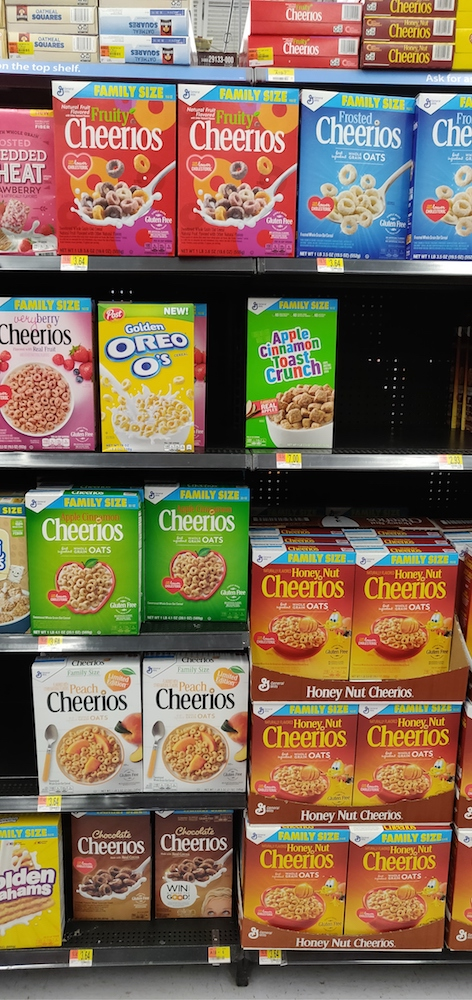Oreo Golden-568301011: (98, 305, 202, 453)
